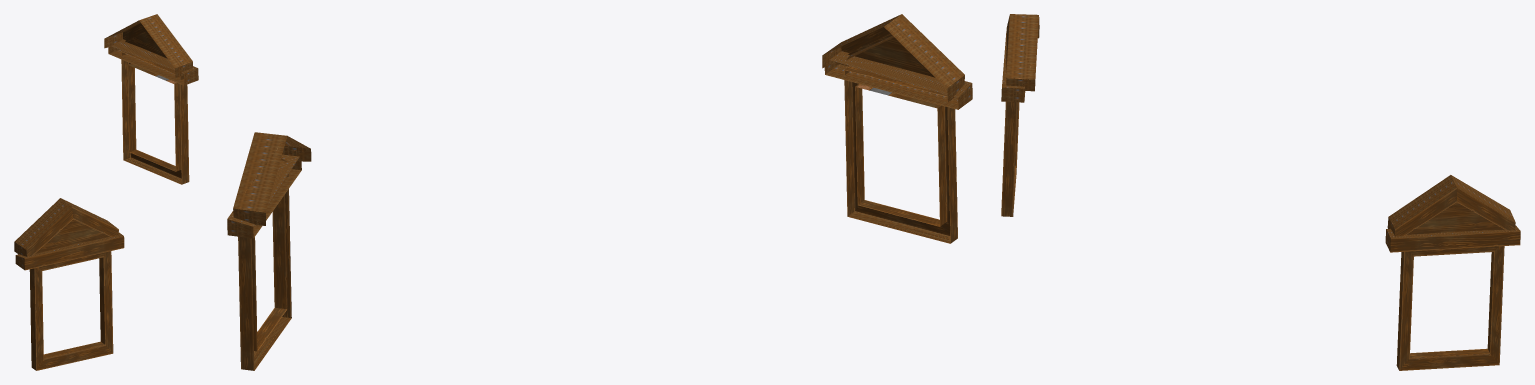
3 renders of one model, left to right at view 1: azimuth 30°, elevation 25°; view 2: azimuth 150°, elevation 25°; view 3: azimuth 270°, elevation 25°, orthographic. The views are drawn at different scales.
Visible parts, largest first — view 1: Cube.2061; view 2: Cube.2061; view 3: Cube.2061.
Part boxes in pixels (x1,y1,x2,y2): Cube.2061: [14, 14, 198, 370]; Cube.2061: [227, 14, 972, 370]; Cube.2061: [1001, 14, 1520, 370].
Bounding box in the file's own units: 762 × 363 × 864.
Materials: 1 (1 with a texture image).
